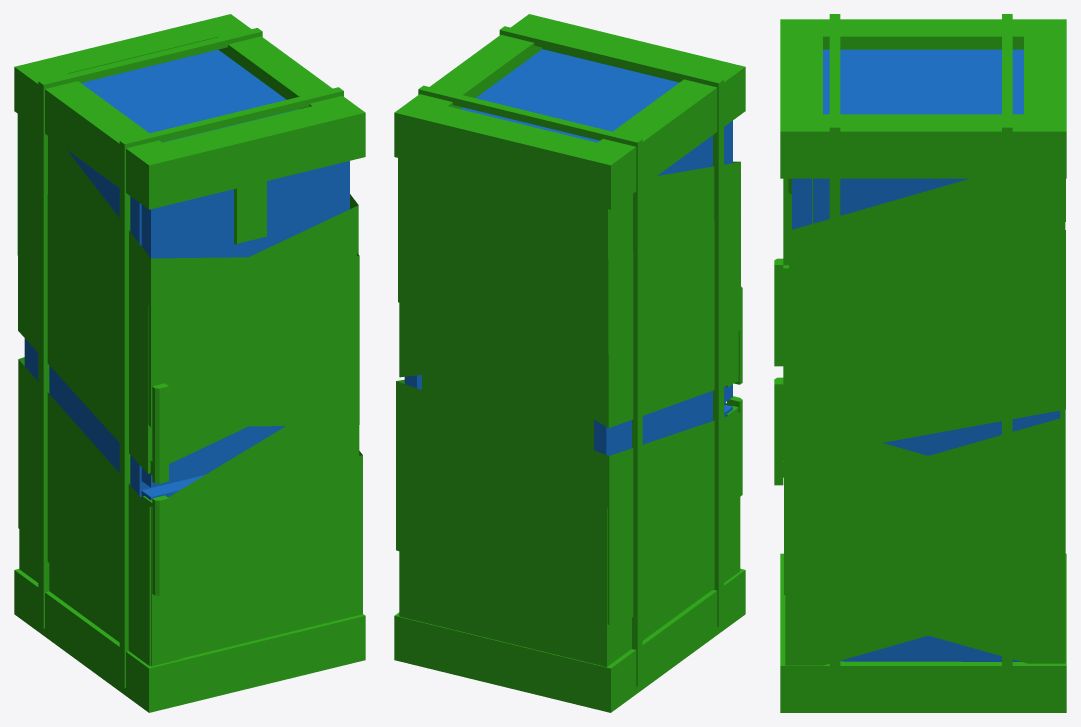
File: SM_refrigerator1.fbx
3 views of the same model, side by side, from view 1: azimuth 30°, elevation 25°; view 2: azimuth 150°, elevation 25°; view 3: azimuth 270°, elevation 25° (orthographic). The views are drawn at different scales.
Parts seen in each view (by area): view 1: refrigerator1; view 2: refrigerator1; view 3: refrigerator1.
Part boxes in pixels (x1=…): refrigerator1: x1=14, y1=14, x2=365, y2=712; refrigerator1: x1=394, y1=14, x2=745, y2=712; refrigerator1: x1=774, y1=14, x2=1066, y2=712.
Size of the model in its own units: 86.84 by 209 by 94.39.
